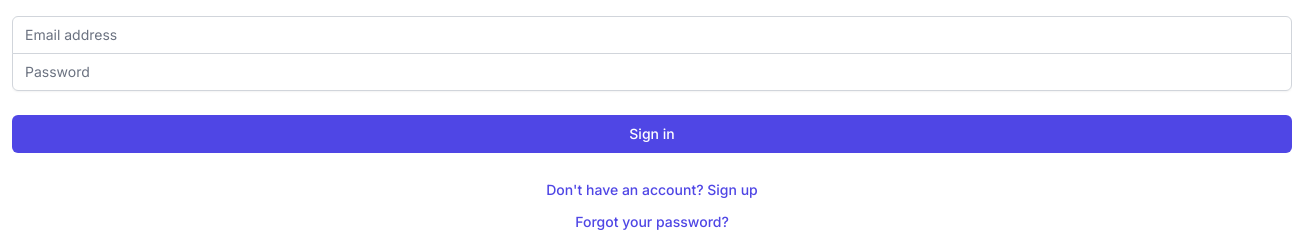
Test: LoginForm › switches between sign in and sign up modes
Click the button "Don't have an account? Sign up" at (652,190), box [546,180,758,200]
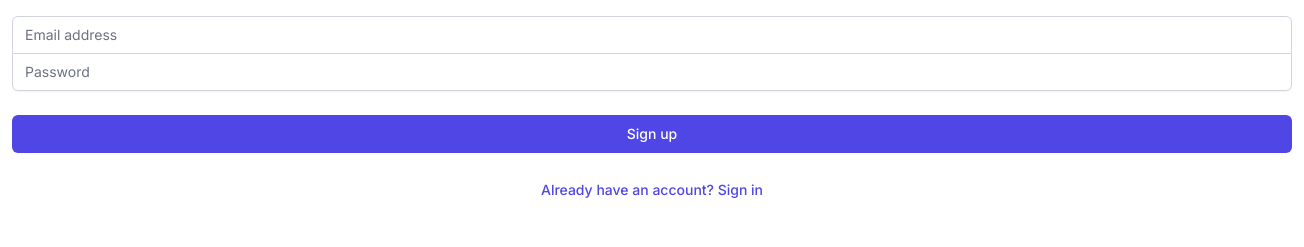
expect the button "Sign up" is shown: met, box [12,115,1292,153]
expect the button "Already have an account? Sign in" is shown: met, box [541,180,763,200]
